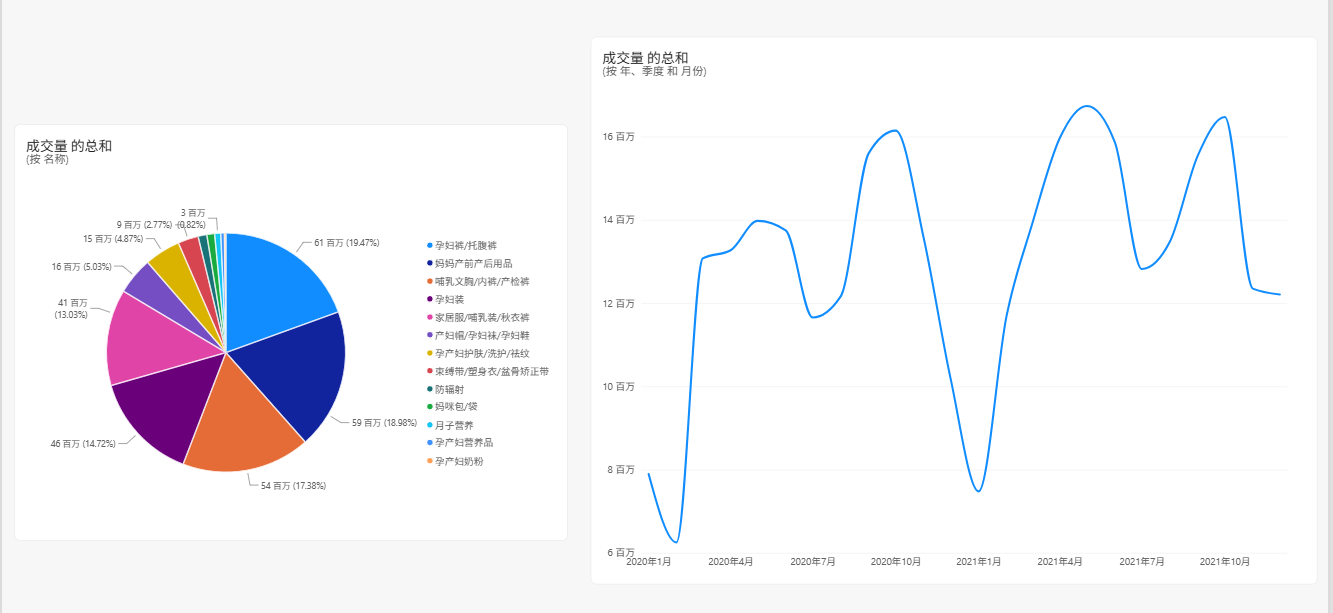

The page's visual inventory and layout, read from the dashboard file:
{"tool":"powerbi","page":{"name":"销量分析1","canvas":[1920,1080],"ordinal":0},"visuals":[{"type":"pieChart","fields":{"Category":["孕妇装-孕产妇用品-营养行业数据.名称"],"Y":["Sum(孕妇装-孕产妇用品-营养行业数据.成交量)"]},"box":[18.1,291.4,800.7,603.1],"z":0},{"type":"lineChart","fields":{"Category":["年月.日期.Variation.日期层次结构.年","年月.日期.Variation.日期层次结构.季度","年月.日期.Variation.日期层次结构.月份"],"Y":["Sum(孕妇装-孕产妇用品-营养行业数据.成交量)"]},"box":[852.1,164.7,1051.8,792.5],"z":1000}]}

Visuals, with their boxes on the page's 1920x1080 design canvas (x1, y1, x2, y2). These are canvas units, not pixel positions in the 1333x613 screenshot, which may show the page scaled, cropped or inside an application window:
pieChart - 孕妇装-孕产妇用品-营养行业数据.名称 x Sum(孕妇装-孕产妇用品-营养行业数据.成交量): [18, 291, 819, 894]
lineChart - 年月.日期.Variation.日期层次结构.年 x 年月.日期.Variation.日期层次结构.季度: [852, 165, 1904, 957]
